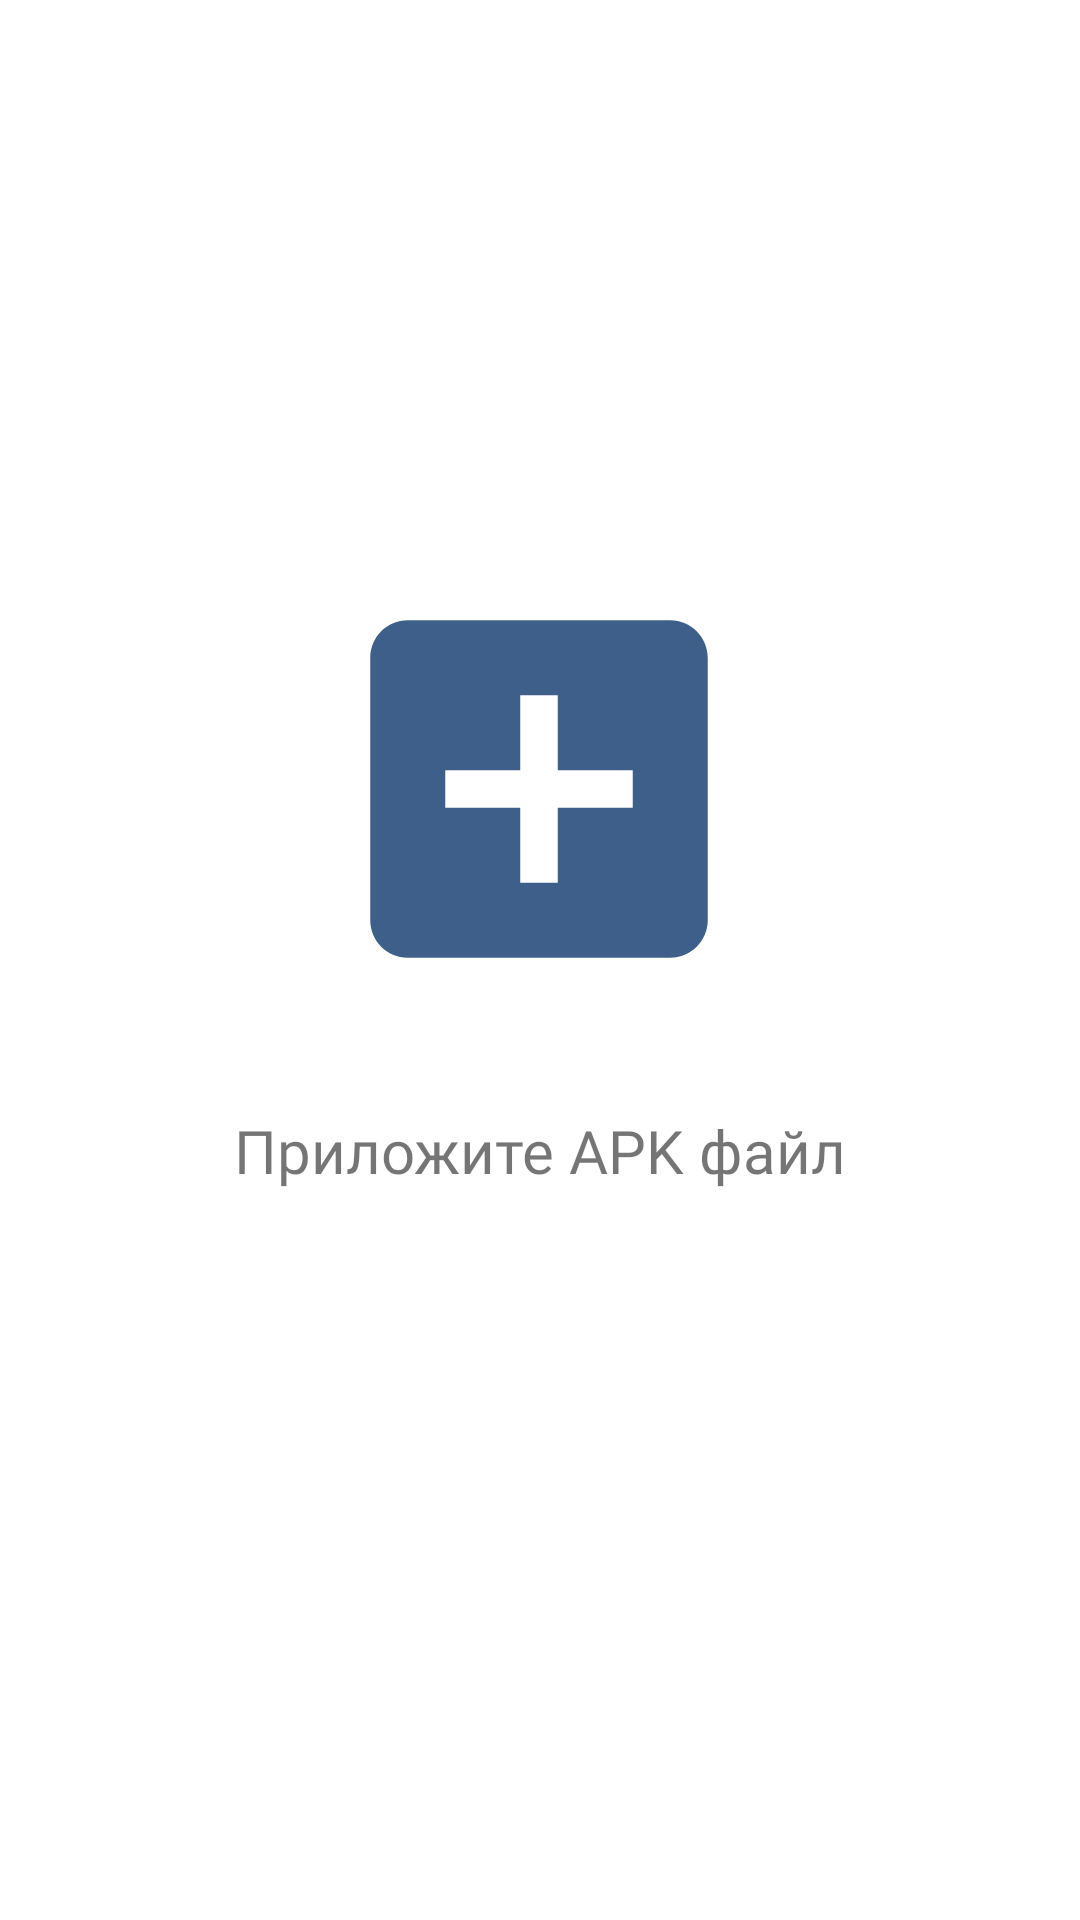

Where to tap for icons on this 1080 x 1920 app screen, as (x=x, y=y):
add box: (x=539, y=789)
